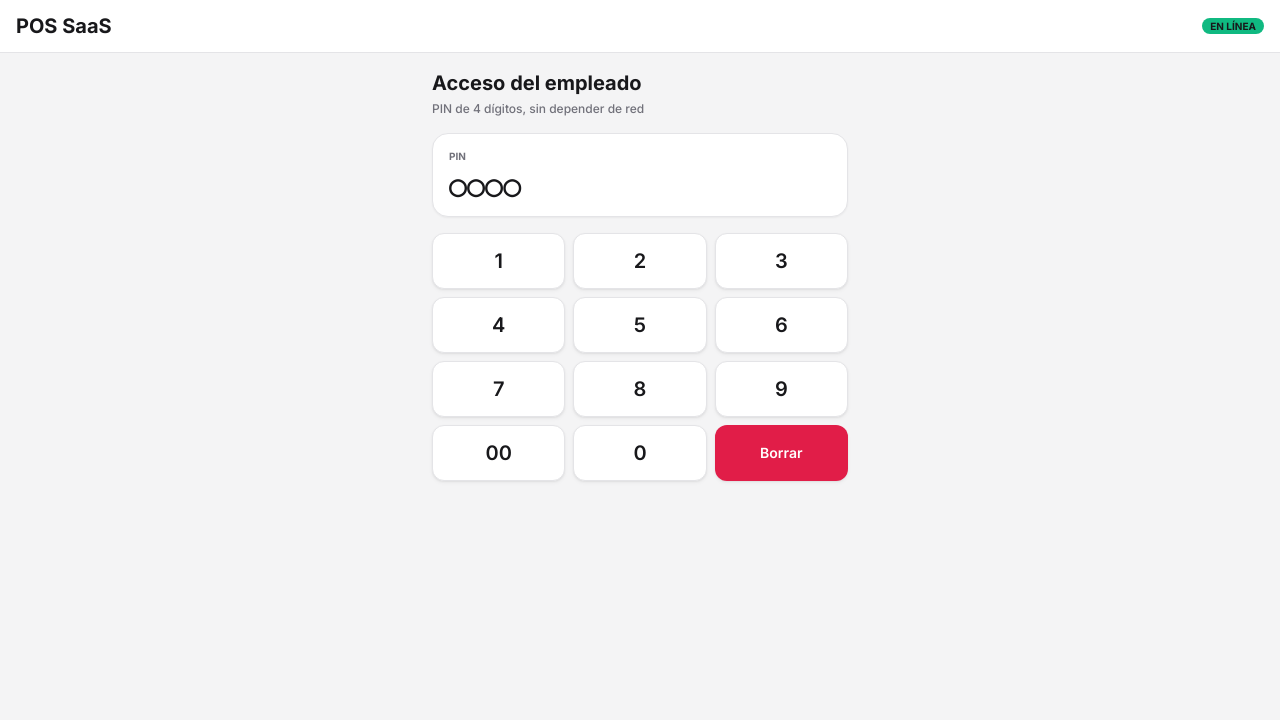
Test: App shell › replaces the access screen with the counter sale after the PIN unlocks
This screenshot has width=1280, height=720.
Step 1. Click the button "1" → x=499, y=261, box x1=432 y1=233 x2=565 y2=289
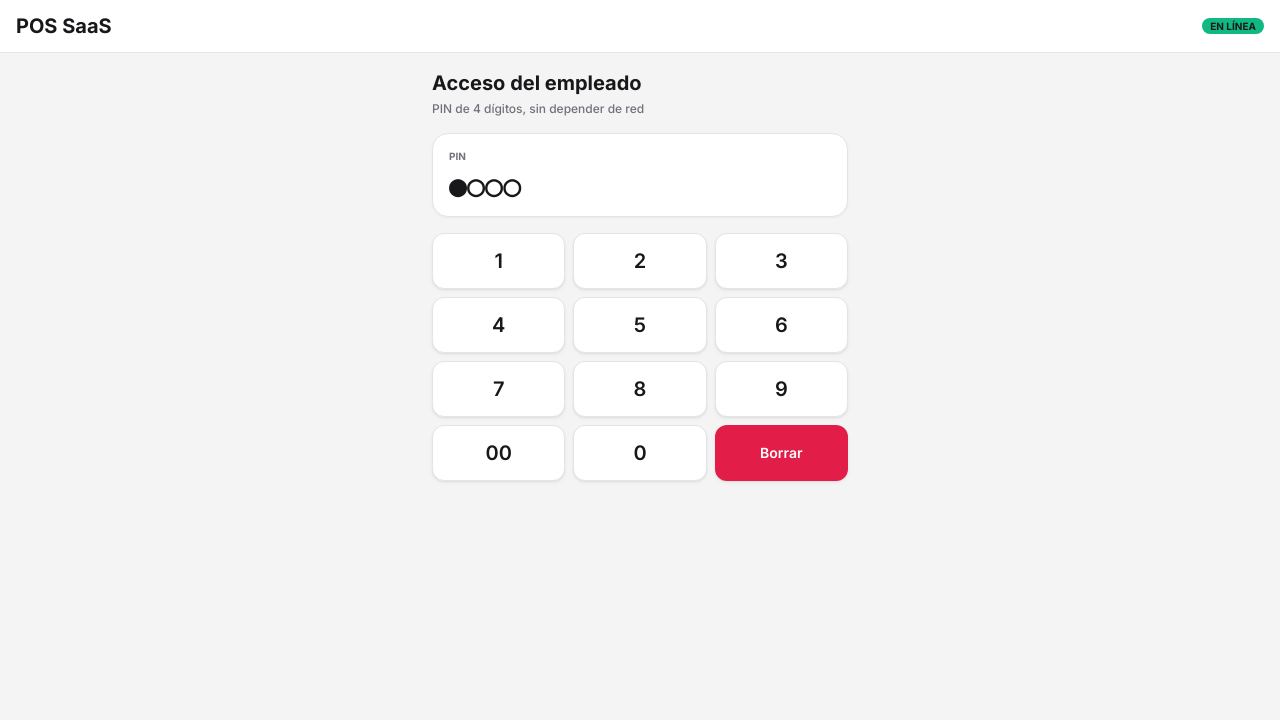
Step 2. Click the button "3" → x=781, y=261, box x1=715 y1=233 x2=848 y2=289
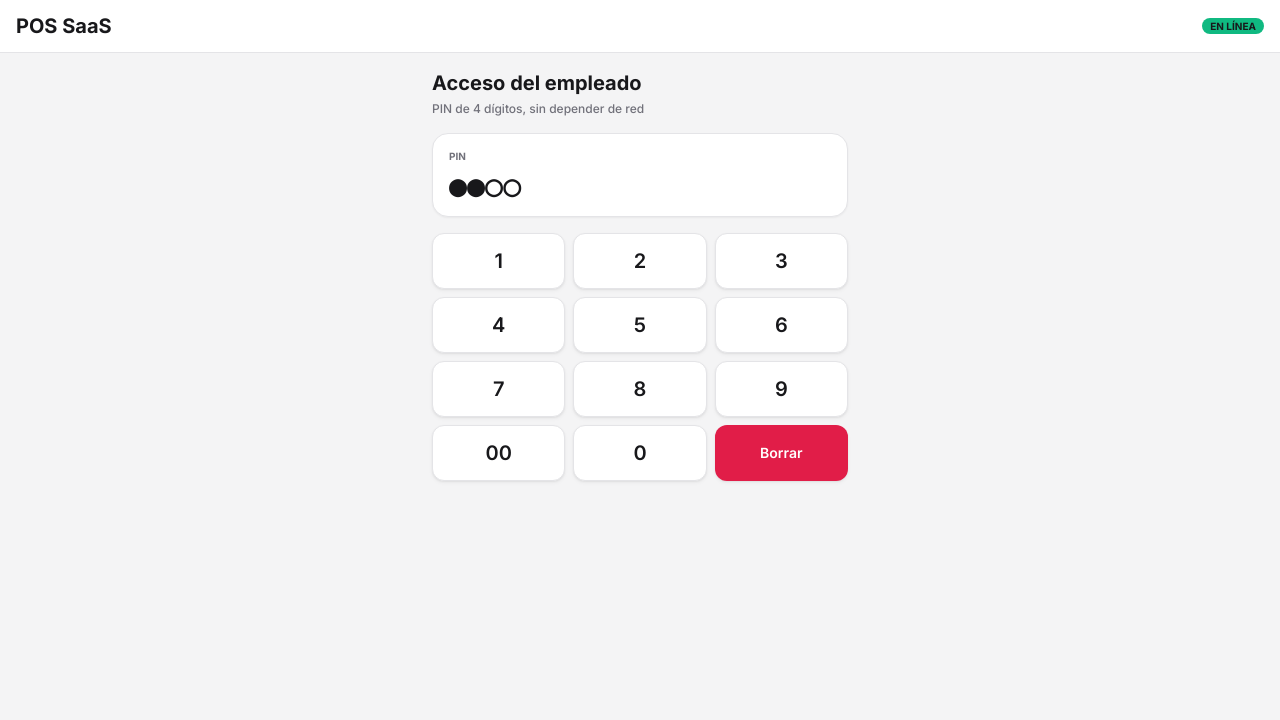
Step 3. Click the button "5" → x=640, y=325, box x1=573 y1=297 x2=707 y2=353
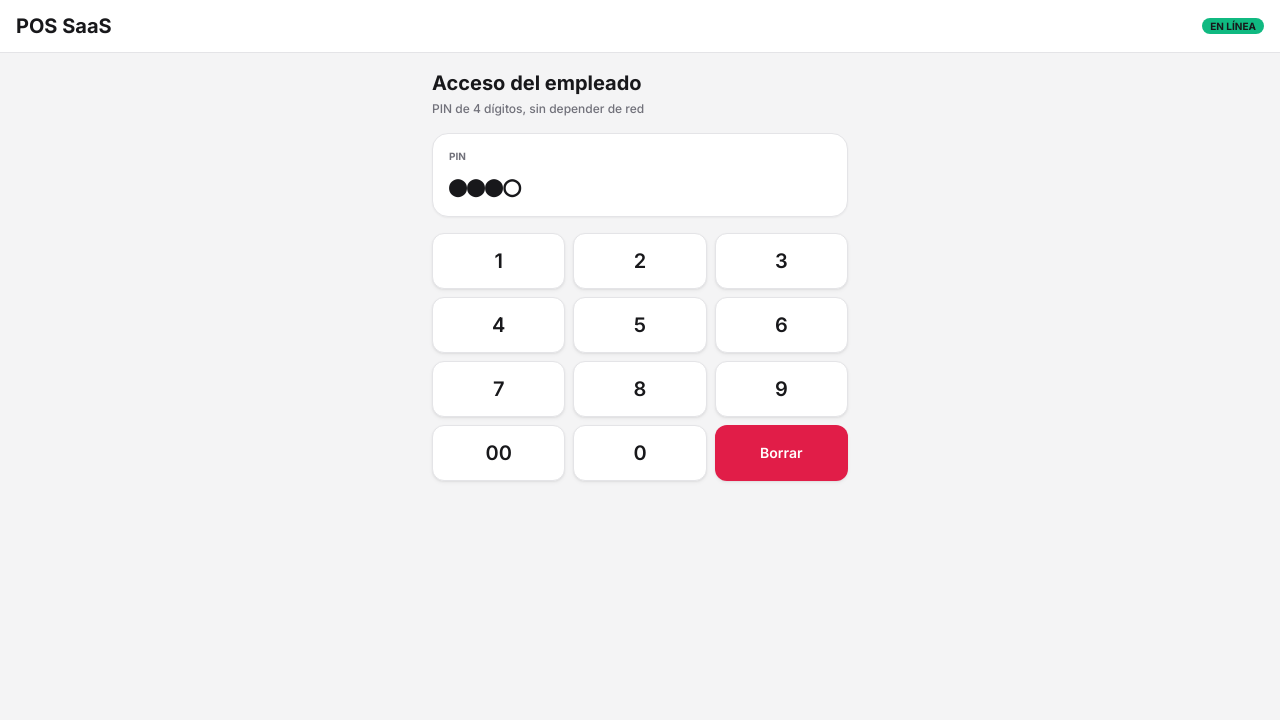
Step 4. Click the button "7" → x=499, y=389, box x1=432 y1=361 x2=565 y2=417
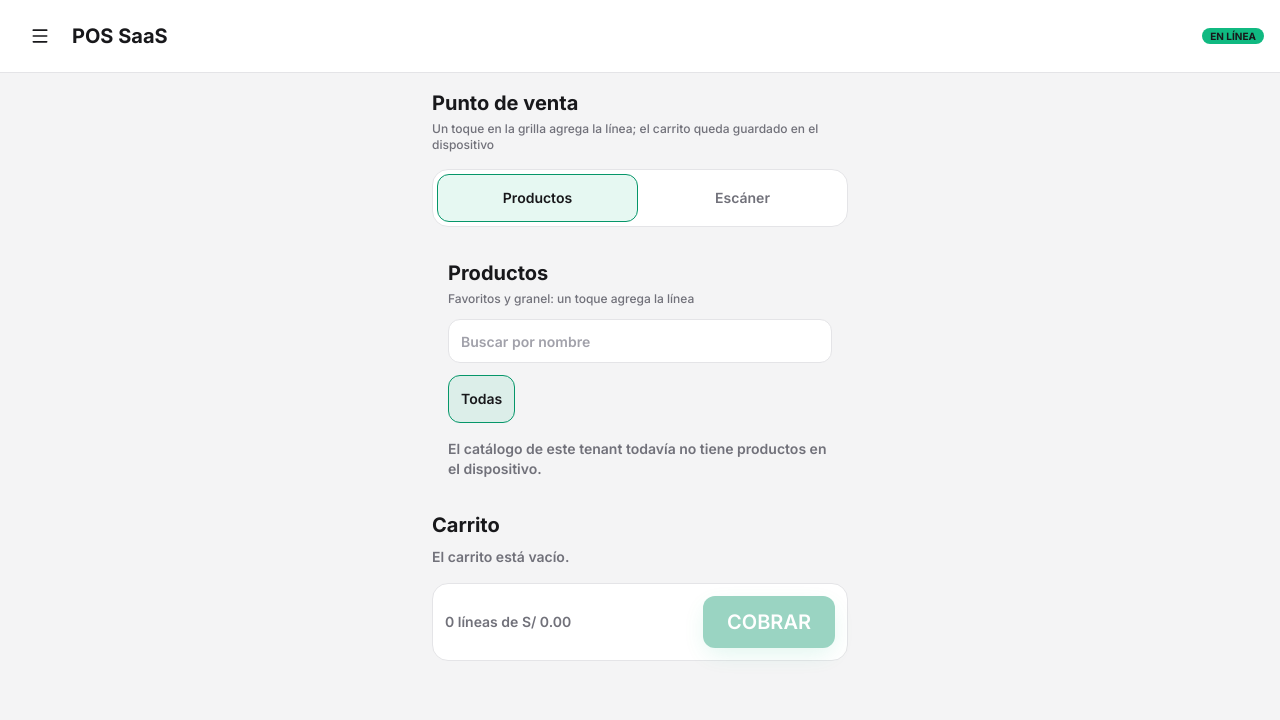
Result: the heading "Punto de venta" is shown at x1=432 y1=91 x2=578 y2=115
